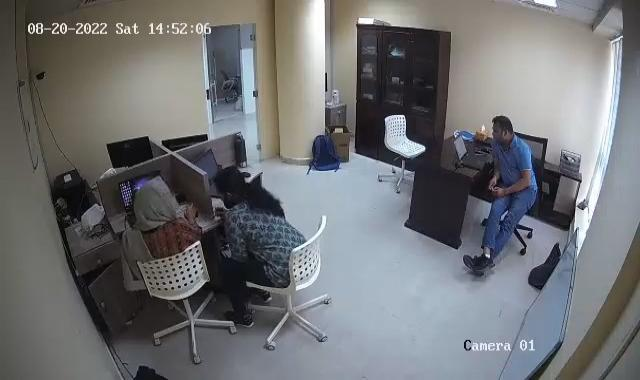no_hairnet: (133, 178, 173, 216), (488, 112, 518, 149), (212, 168, 245, 200)
